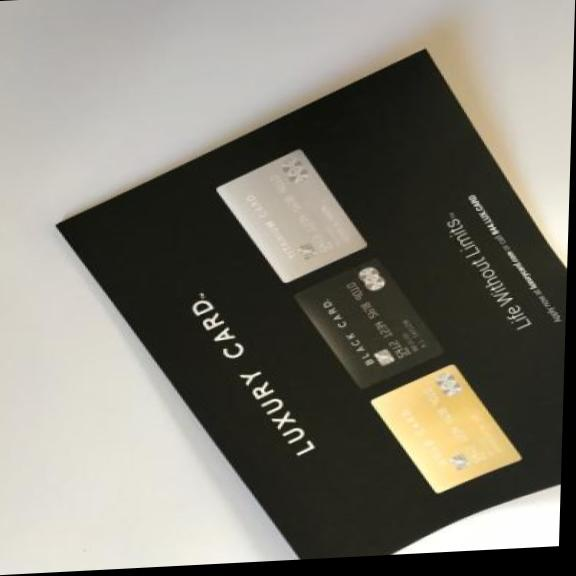Kertas: (23, 36, 574, 562)
